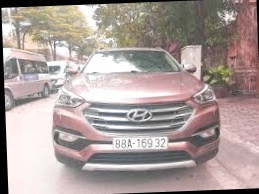Bien-so: (105, 133, 159, 151)
